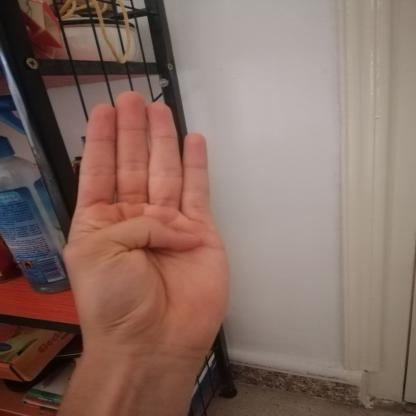KAAF: (43, 75, 250, 380)
